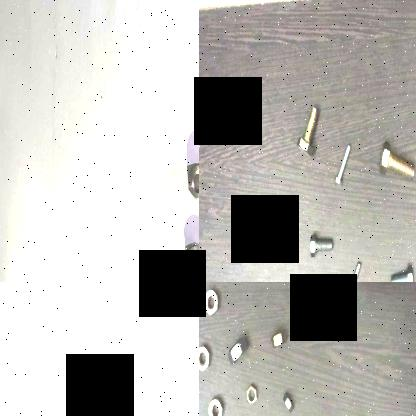Bolts: (376, 137, 416, 182), (295, 102, 319, 158), (306, 228, 332, 258), (334, 144, 352, 184), (389, 261, 415, 282), (342, 256, 362, 282)
NUTS: (225, 333, 249, 371), (181, 238, 199, 281), (200, 284, 221, 318), (184, 158, 199, 201), (270, 322, 288, 350), (280, 386, 296, 414), (199, 342, 212, 376), (205, 397, 223, 416), (245, 380, 257, 406)
